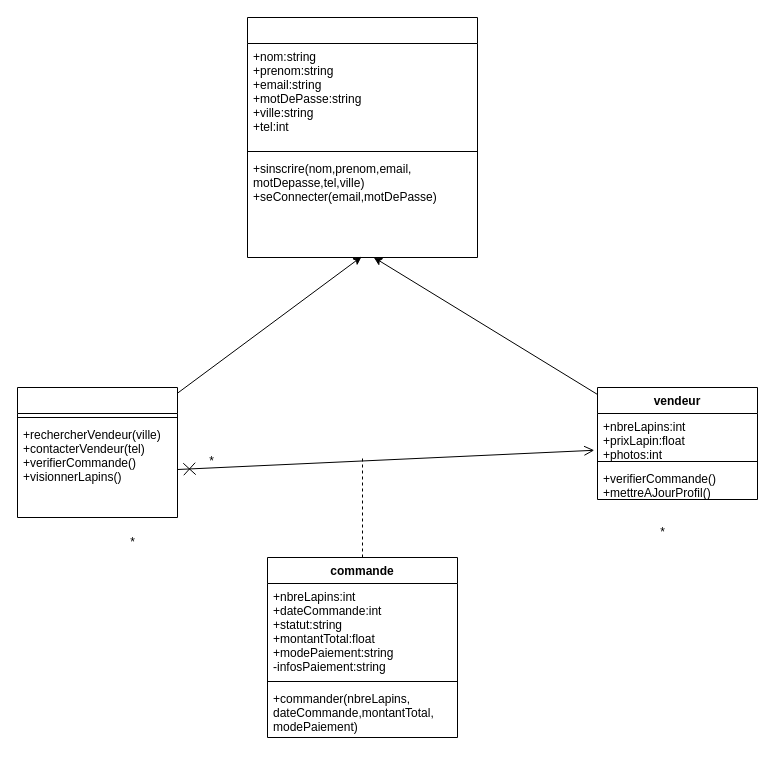
This 775x758 diagram has some shape labels left out. Each missing label, with the box of its shape:
client: (16, 386, 178, 518)
users: (246, 16, 478, 258)
